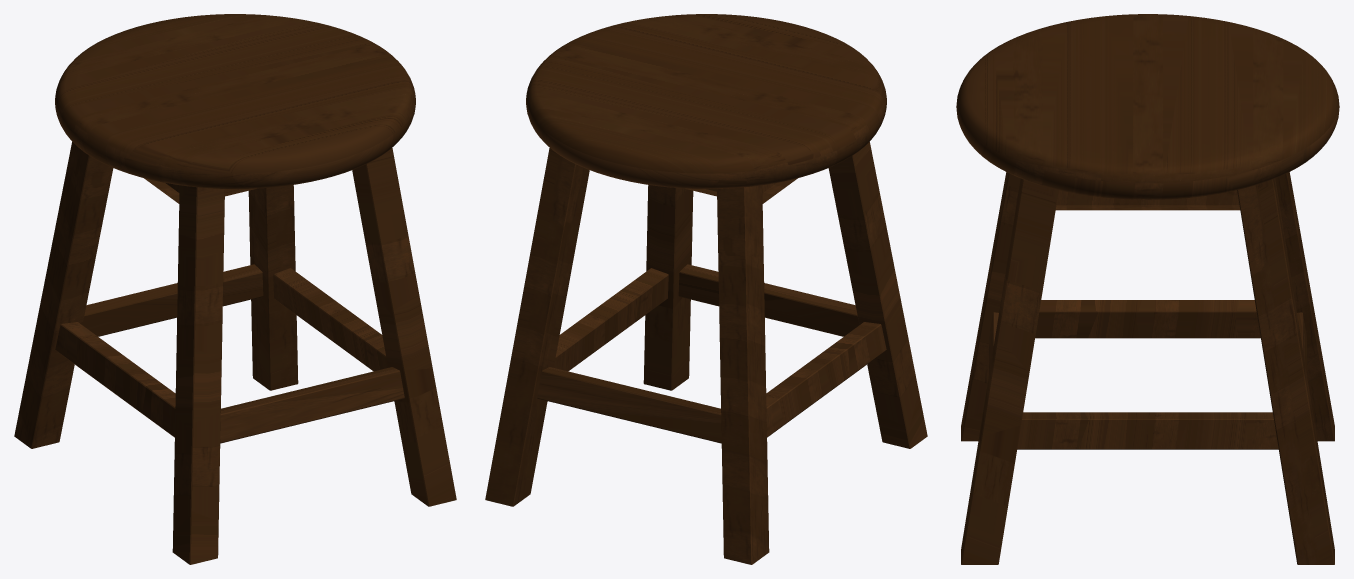
Rendered from chair_player_rm_retopo.fbx.
The picture shows the model from 3 angles, left to right: view 1: azimuth 30°, elevation 25°; view 2: azimuth 150°, elevation 25°; view 3: azimuth 270°, elevation 25°; orthographic projection. The views are drawn at different scales.
Parts seen in each view (by area): view 1: Cube.001; view 2: Cube.001; view 3: Cube.001.
Part boxes in pixels (x1=…): Cube.001: x1=14, y1=14, x2=456, y2=564; Cube.001: x1=485, y1=14, x2=927, y2=564; Cube.001: x1=956, y1=14, x2=1339, y2=564.
Size of the model in its own units: 166 by 195 by 166.
